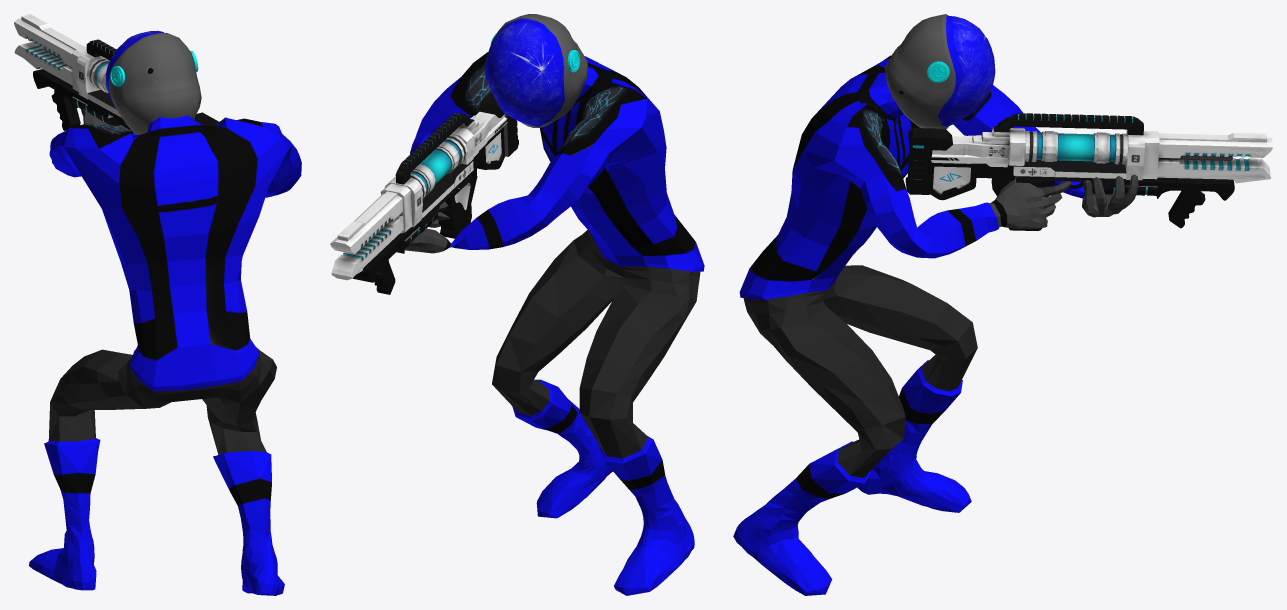
3 renders of one model, left to right at view 1: azimuth 30°, elevation 25°; view 2: azimuth 150°, elevation 25°; view 3: azimuth 270°, elevation 25°, orthographic. The views are drawn at different scales.
Visible parts, largest first — view 1: Brazos2, Piernas1, Cabeza1, Line0011; view 2: Piernas1, Brazos2, Line0011, Cabeza1; view 3: Piernas1, Brazos2, Line0011, Cabeza1.
Part boxes in pixels (x1,y1,x2,y2): Brazos2: (49,108,301,391); Piernas1: (29,347,284,595); Cabeza1: (105,30,201,134); Line0011: (14,14,218,133); Piernas1: (492,229,700,595); Brazos2: (404,52,704,271); Line0011: (330,92,518,294); Cabeza1: (484,14,587,127); Piernas1: (733,265,977,595); Brazos2: (739,55,1138,299); Line0011: (905,113,1272,230); Cabeza1: (885,14,995,129).
Size of the model in its own units: 70.65 by 145 by 129.
